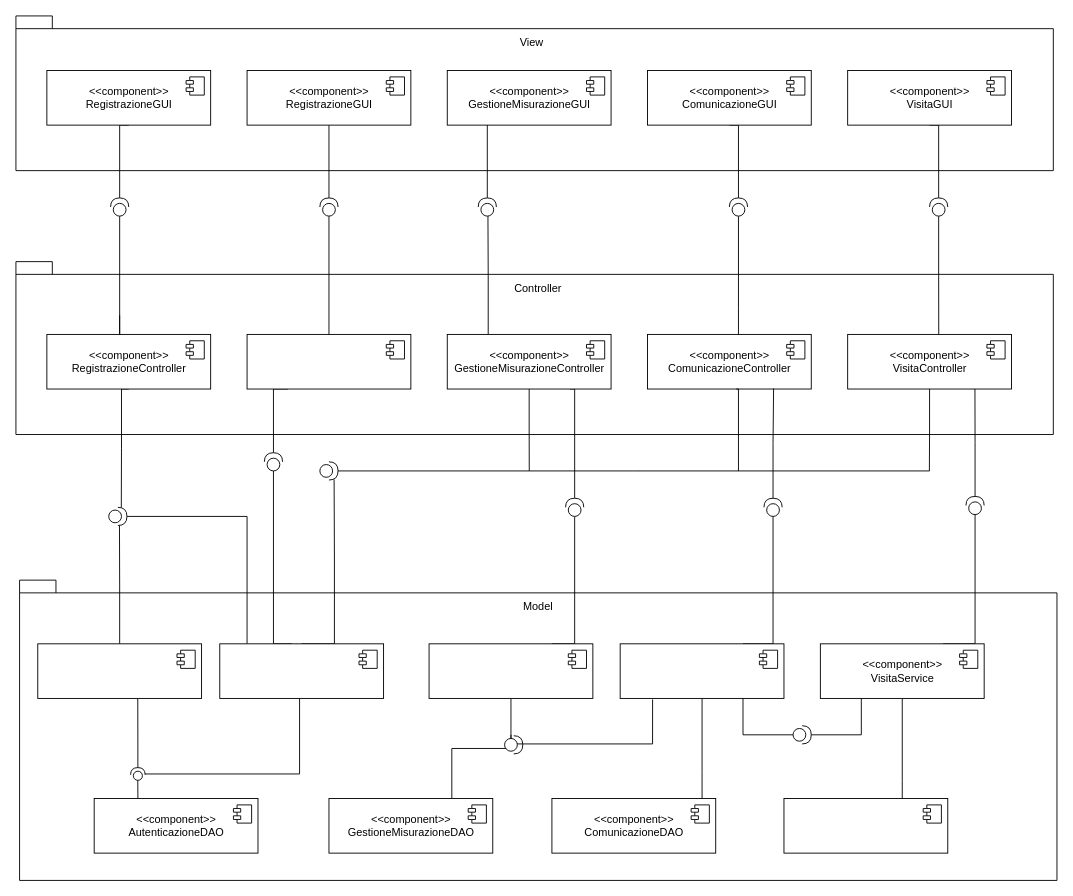
This 1073x896 diagram has some shape labels left out. The shapes that lost their labels are listed below. From the top down, each one's box as (x1, y1, x2, y2) in pixels, then its label:
(246, 334, 411, 389): <<component>> AutenticazioneController
(37, 643, 202, 698): <<component>> RegistrazioneService
(219, 643, 384, 698): <<component>> AutenticazioneService
(428, 643, 593, 698): <<component>> GestioneMisurazioneService
(619, 643, 784, 698): <<component>> ComunicazioneService
(783, 798, 948, 853): <<component>> VisitaDAO
